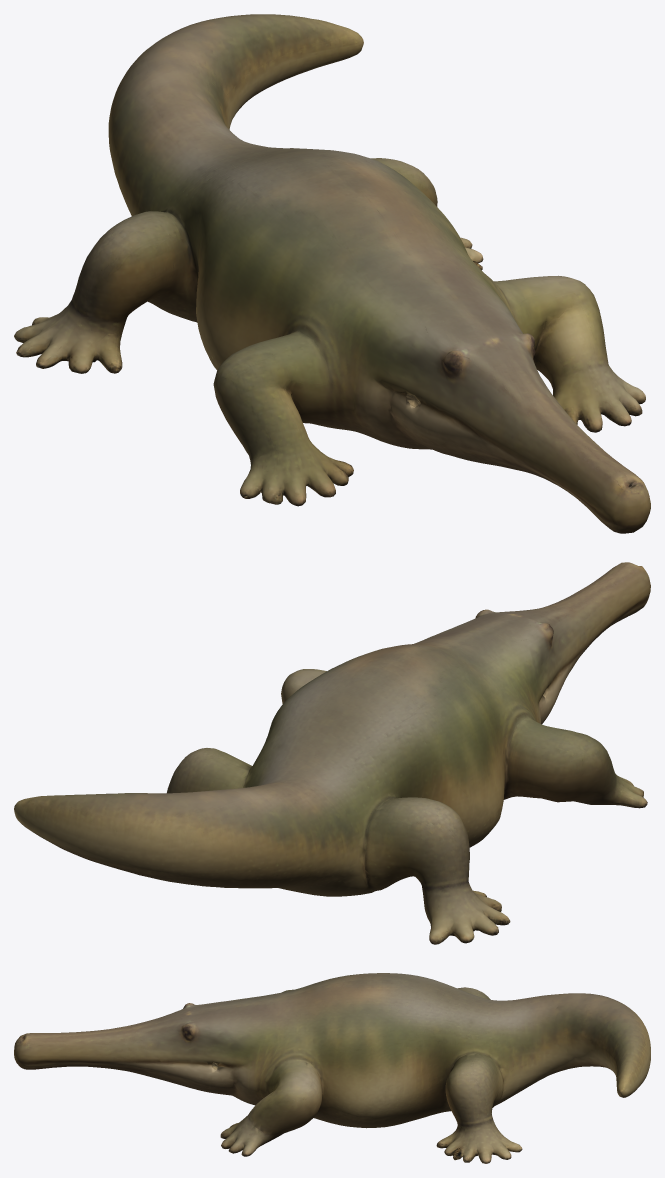
3 renders of one model, top to bottom at view 1: azimuth 30°, elevation 25°; view 2: azimuth 150°, elevation 25°; view 3: azimuth 270°, elevation 25°, orthographic. The views are drawn at different scales.
Parts seen in each view (by area): view 1: geometry_0; view 2: geometry_0; view 3: geometry_0.
Part boxes in pixels (<box>): geometry_0: <box>14,14,650,533</box>; geometry_0: <box>14,562,650,944</box>; geometry_0: <box>14,973,650,1163</box>.
Size of the model in its own units: 3.24 by 1.54 by 6.5.
Materials: 1 (1 with a texture image).
